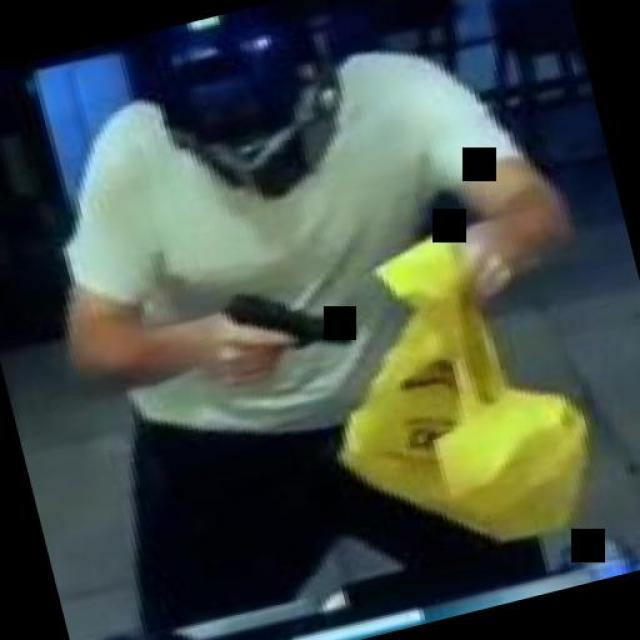gun: (199, 263, 360, 387)
